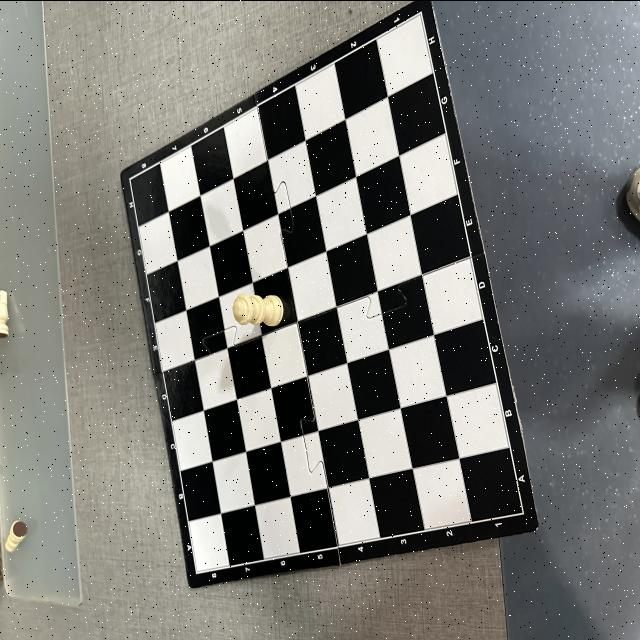White-Pawn: (4, 518, 27, 552), (0, 288, 9, 341)
White-Queen: (232, 294, 284, 326)
